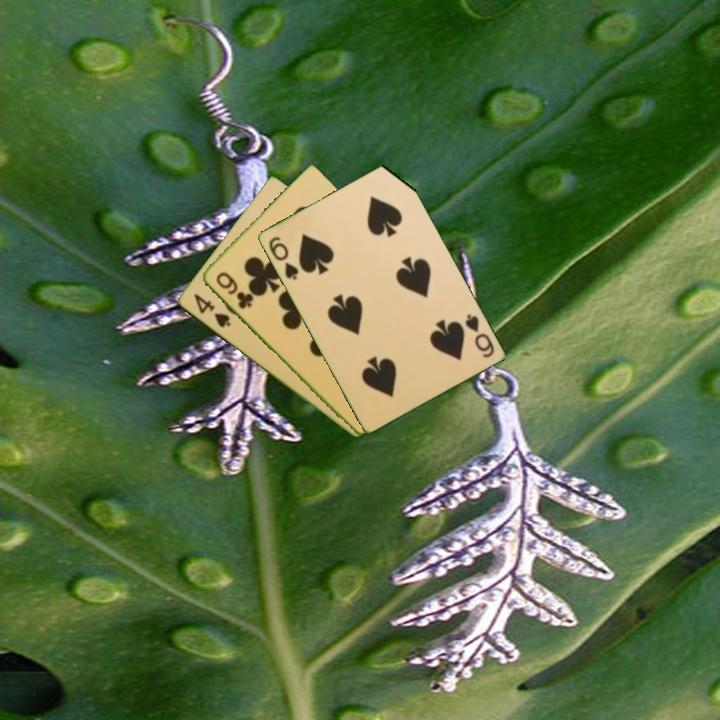4s: (190, 290, 233, 331)
6s: (461, 310, 497, 361), (265, 233, 301, 283)
9c: (212, 269, 255, 312)
